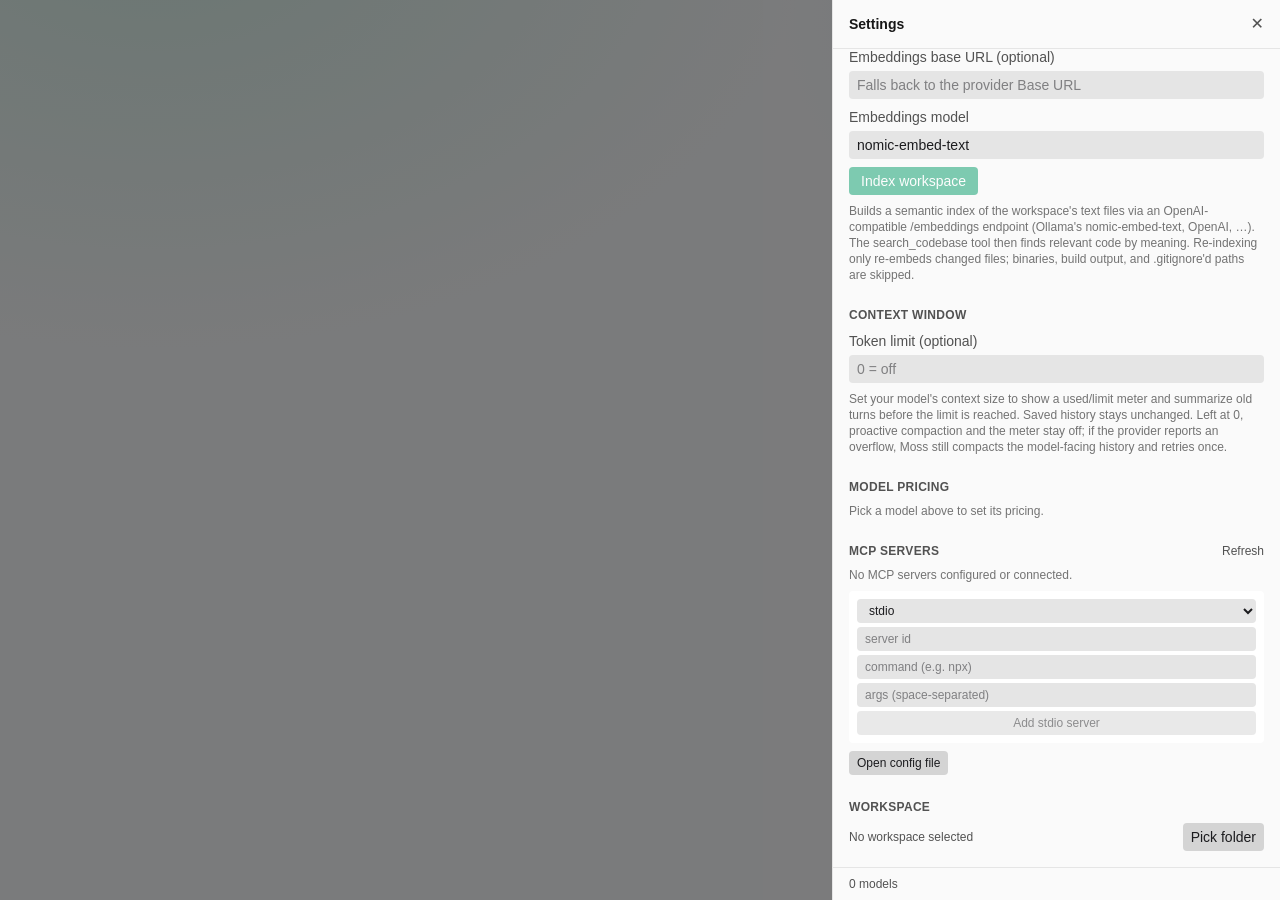
SettingsPanel › adds an http server when the type is switched
(page scrolled)
Expected: the text "No MCP servers configured or connected." is shown, [849, 568, 1072, 582]
Select "http" in the dropdown named "New server type". click: (1056, 611)
box: [857, 599, 1256, 623]
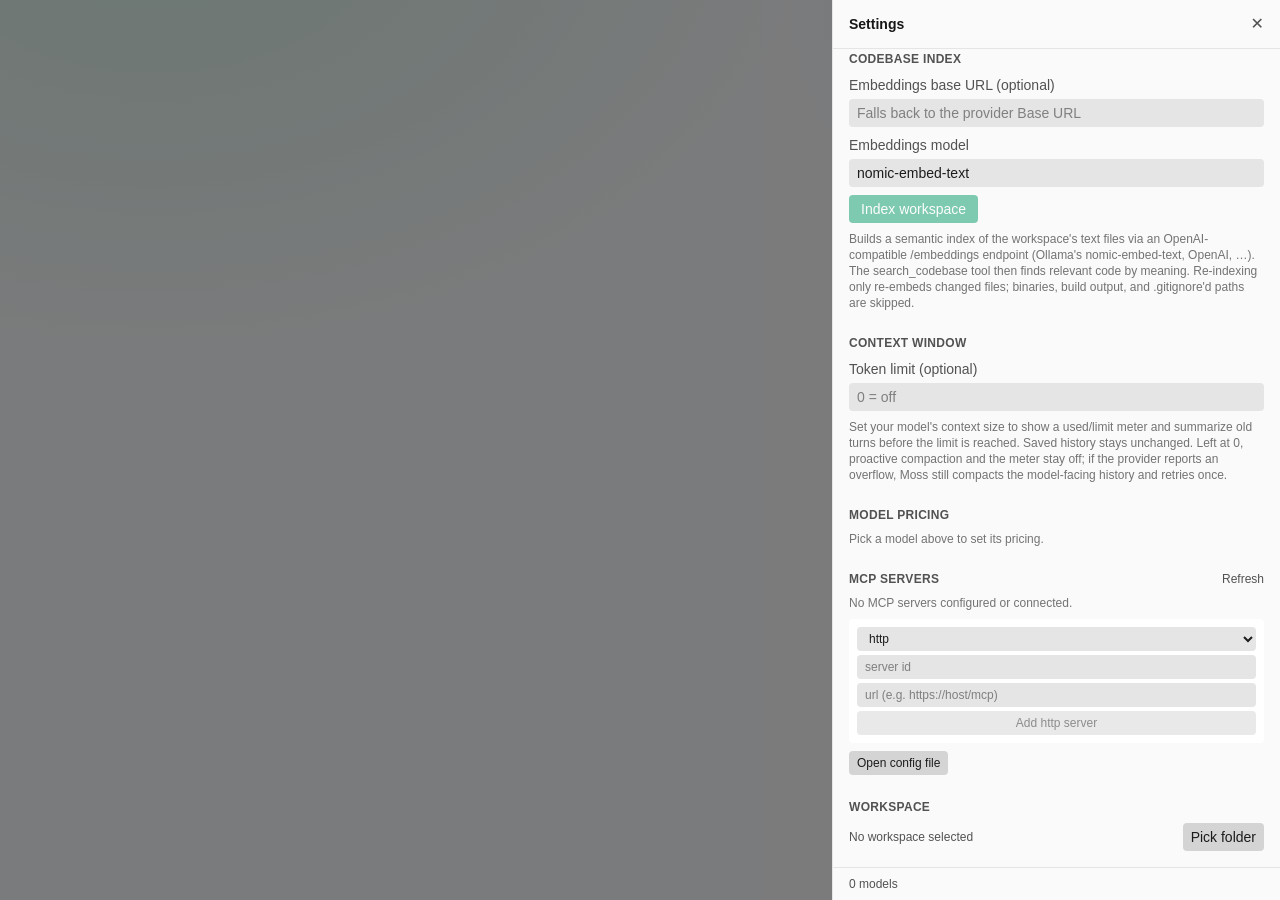
Type "remote" into the field named "New server id". click: (1056, 667)
box: [857, 655, 1256, 679]
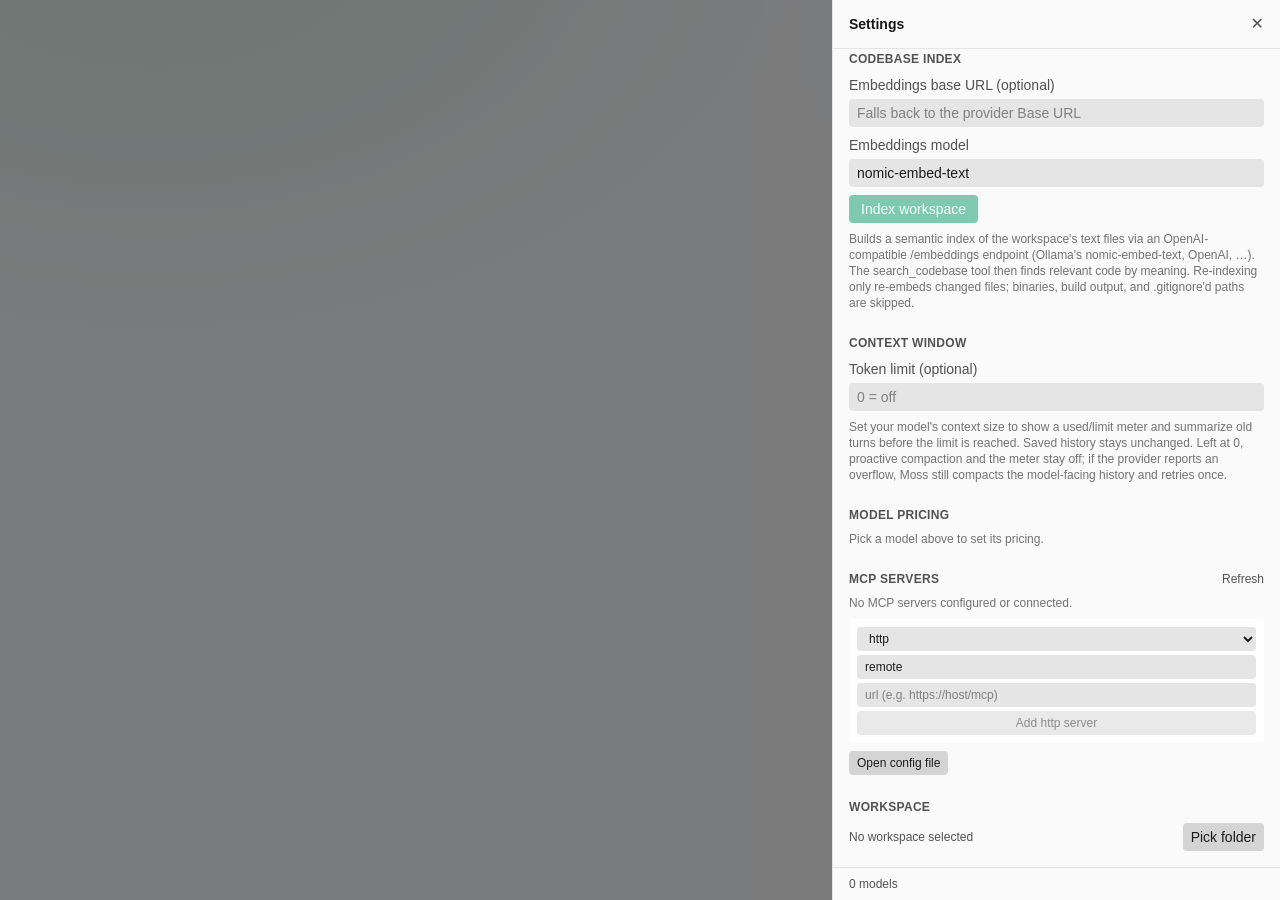
Type "https://host/mcp" into the field named "New server url". click: (1056, 695)
box: [857, 683, 1256, 707]
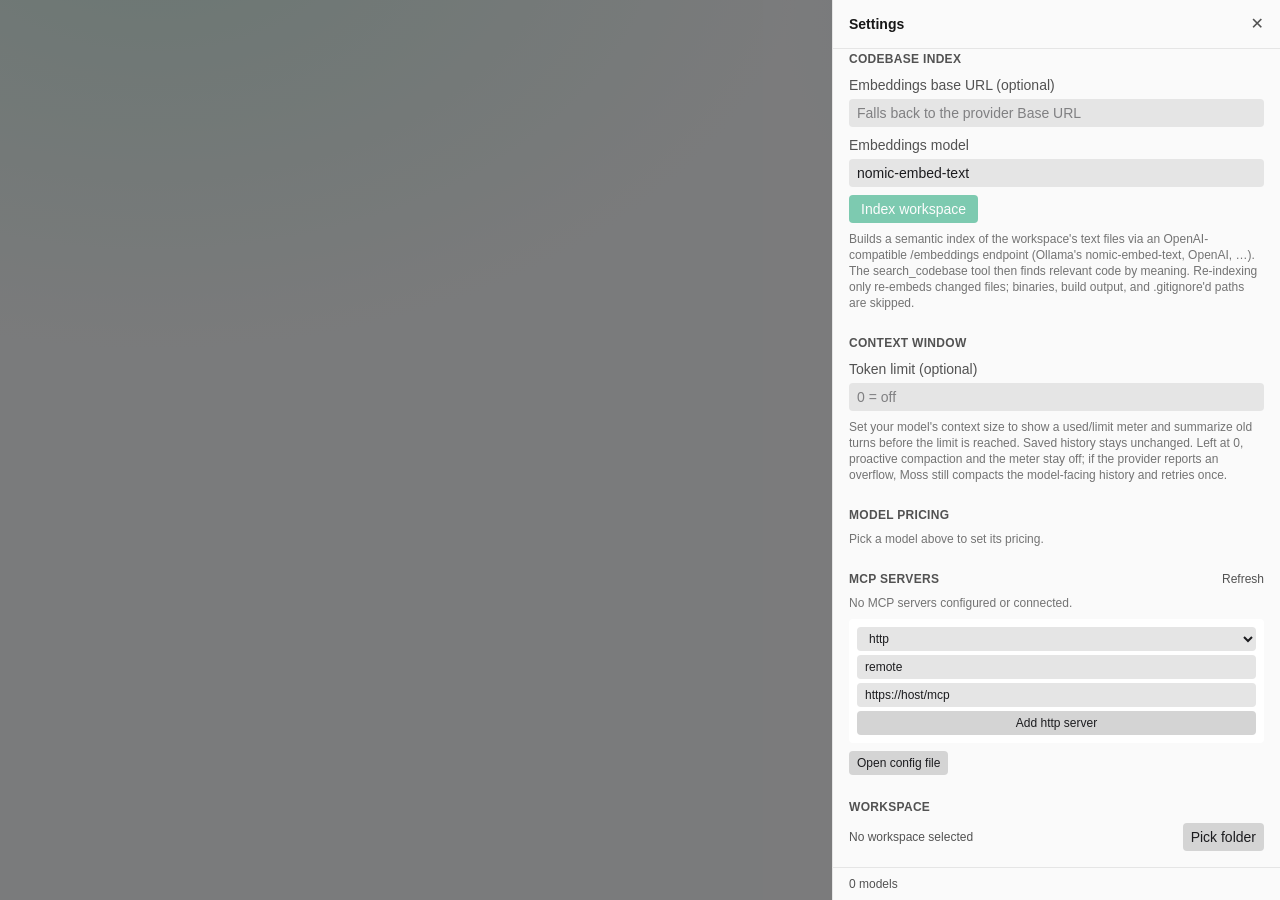
Click the button "Add http server". click: (1056, 723)
box: [857, 711, 1256, 735]
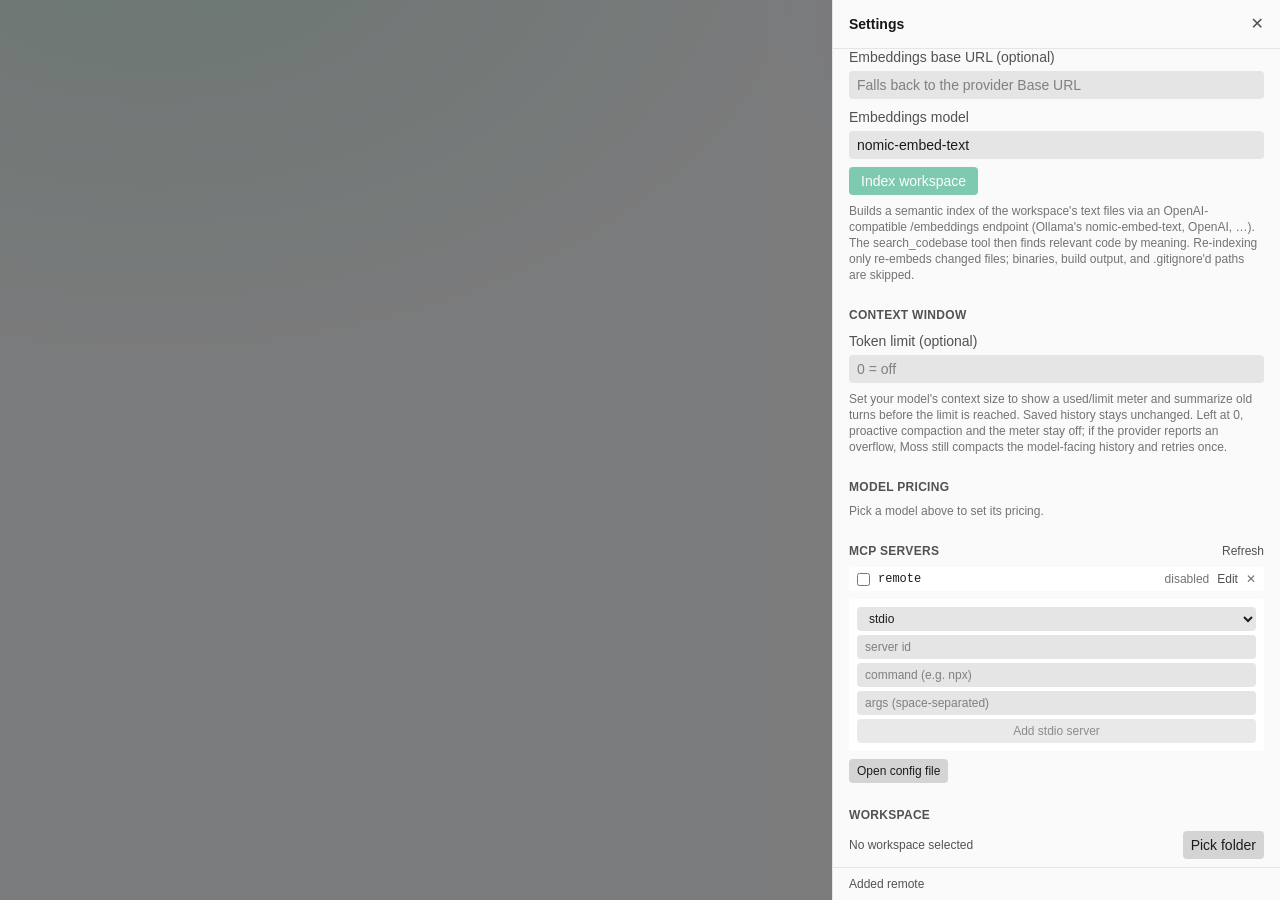
Expected: the checkbox labelled "remote" is shown, [857, 572, 870, 586]
